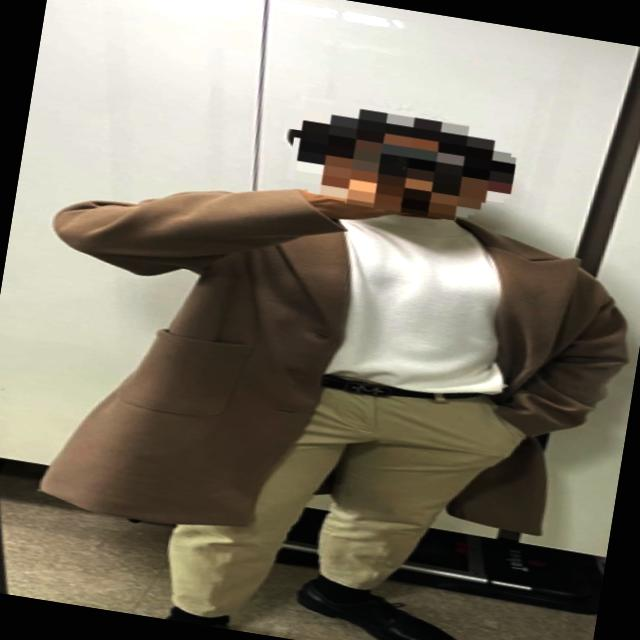coat: (15, 153, 640, 597)
slacks: (148, 347, 532, 640)
